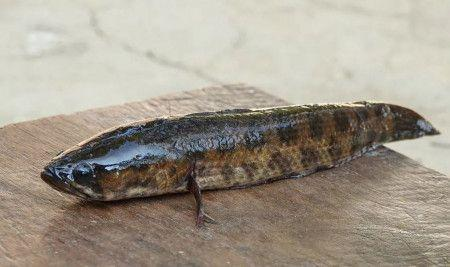Mudfish: (42, 96, 440, 225)
